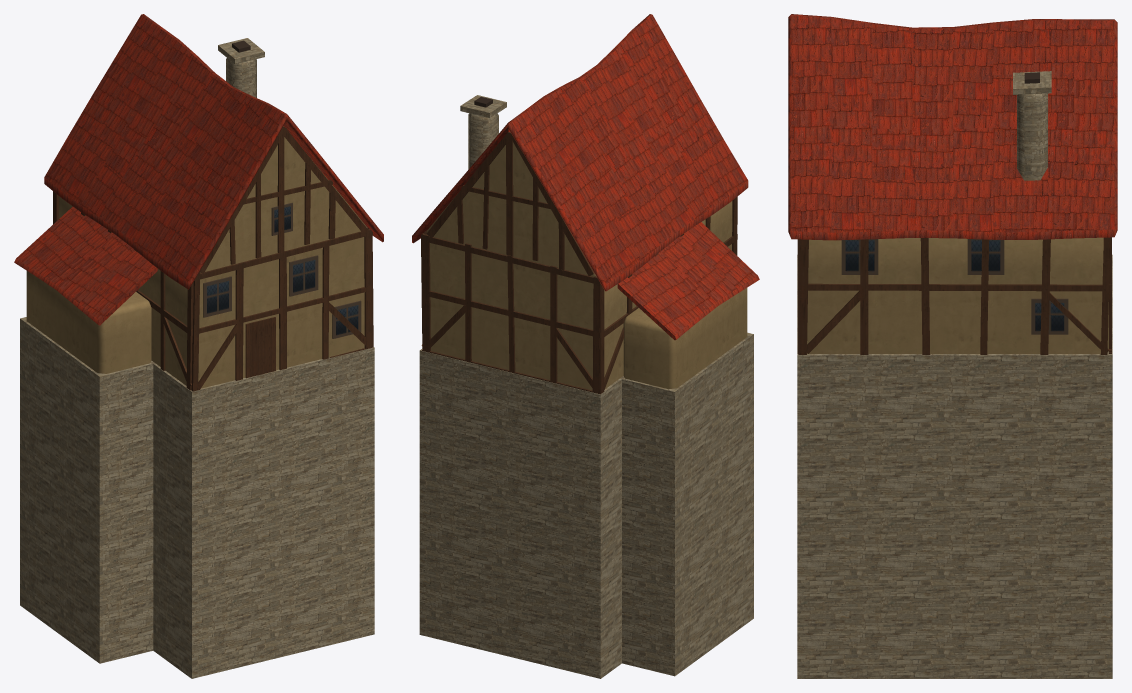
Rendered from cottage_b.glb.
3 views of the same model, side by side, from view 1: azimuth 30°, elevation 25°; view 2: azimuth 150°, elevation 25°; view 3: azimuth 270°, elevation 25° (orthographic). The views are drawn at different scales.
Visible parts, largest first — view 1: cottage_b_export; view 2: cottage_b_export; view 3: cottage_b_export.
Boxes of the visible parts, x1,y1,x2,y2 form: cottage_b_export: [14, 14, 383, 678]; cottage_b_export: [412, 14, 759, 678]; cottage_b_export: [788, 14, 1117, 678].
Size of the model in its own units: 17.58 by 37.06 by 18.
5 materials, 5 textured.
